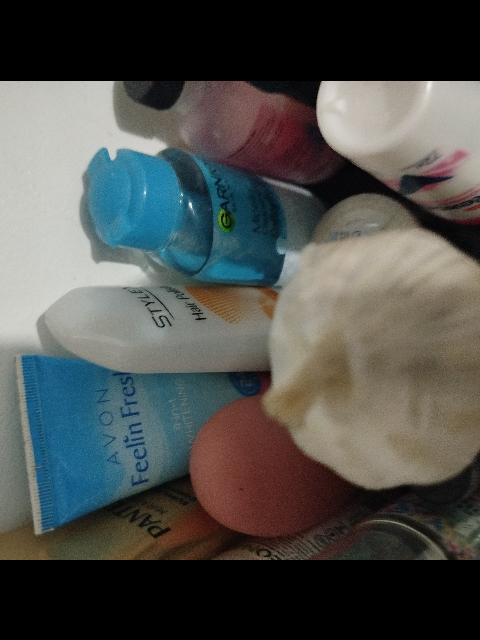garlic: (240, 199, 480, 533)
